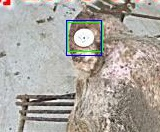text: (67, 22, 102, 51)
